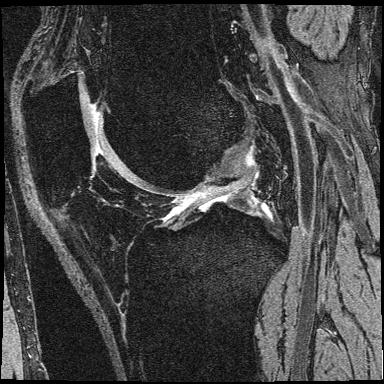KneeJointArea_Lat: (21, 71, 301, 316)
